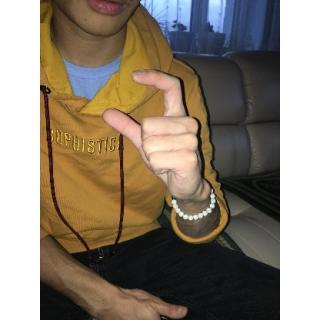DELL: (102, 64, 204, 206)
